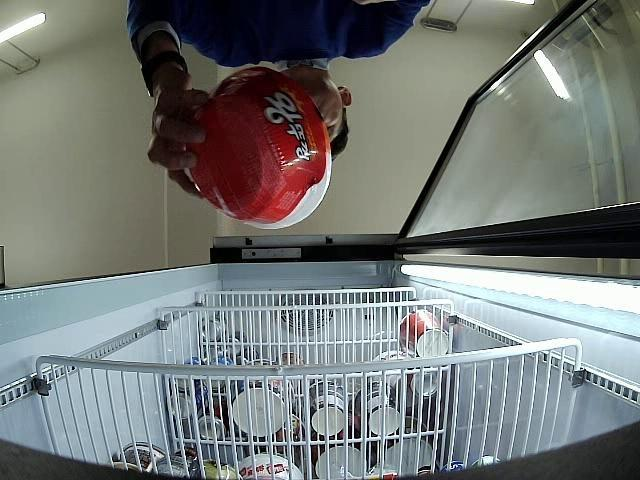10_wangTtukkeong: (186, 66, 332, 230)
